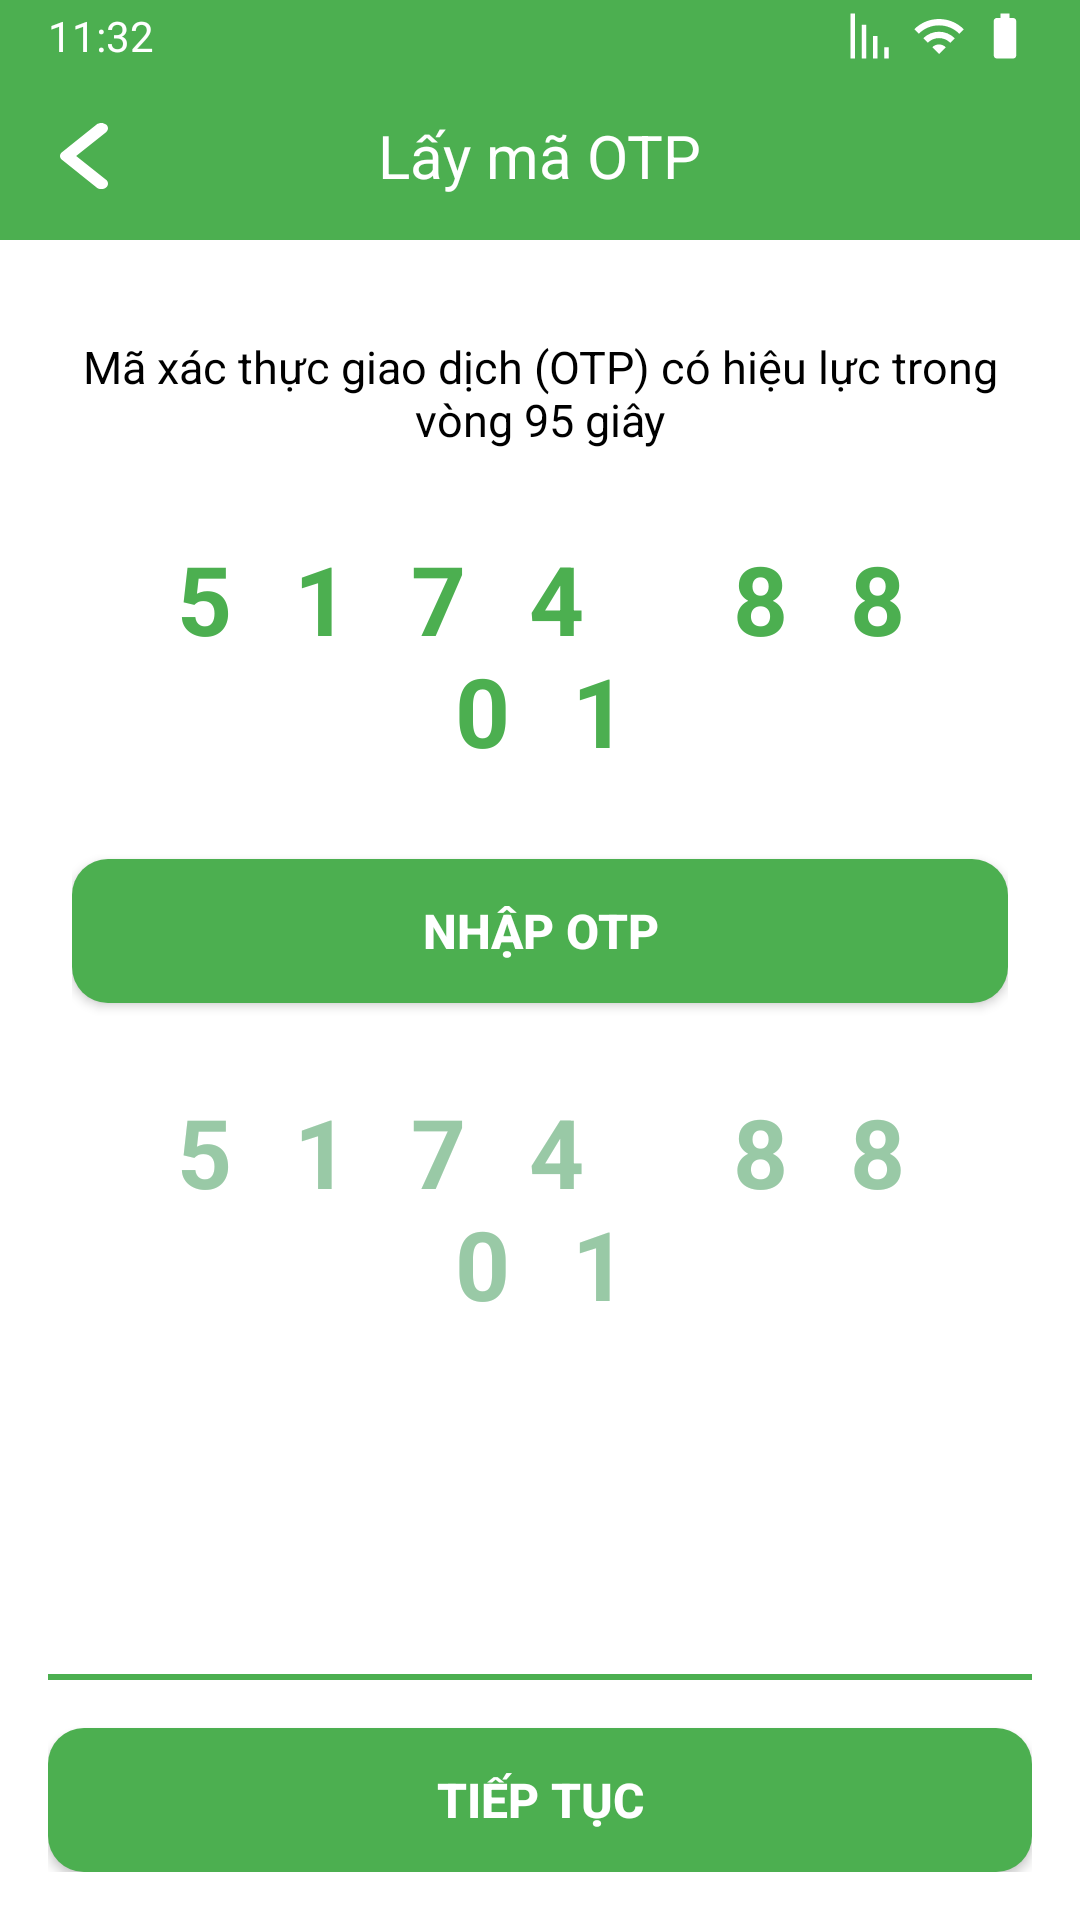

Named icons in this screenshot (1080×1920) and their centers, point (x, y):
back: point (84, 156)
battery: point (1005, 36)
signal: point (869, 36)
wifi: point (939, 36)
